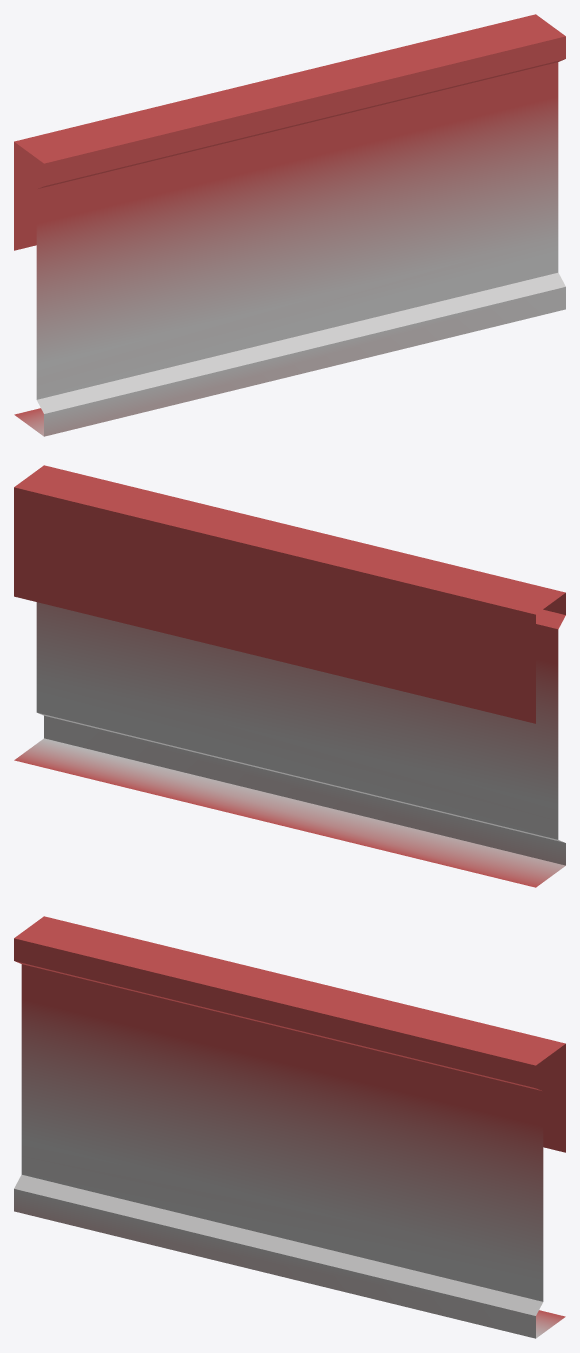
File: Cornice_Metal_Center.gltf
3 views of the same model, one above another, from view 1: azimuth 30°, elevation 25°; view 2: azimuth 150°, elevation 25°; view 3: azimuth 330°, elevation 25° (orthographic).
Visible parts, largest first — view 1: Cornice_Metal_Center; view 2: Cornice_Metal_Center; view 3: Cornice_Metal_Center.
Part boxes in pixels (x1,y1,x2,y2): Cornice_Metal_Center: [14, 14, 565, 436]; Cornice_Metal_Center: [14, 465, 565, 887]; Cornice_Metal_Center: [14, 916, 565, 1338].
Size of what is drawn, in the model's own units: 2 by 1 by 0.2.
